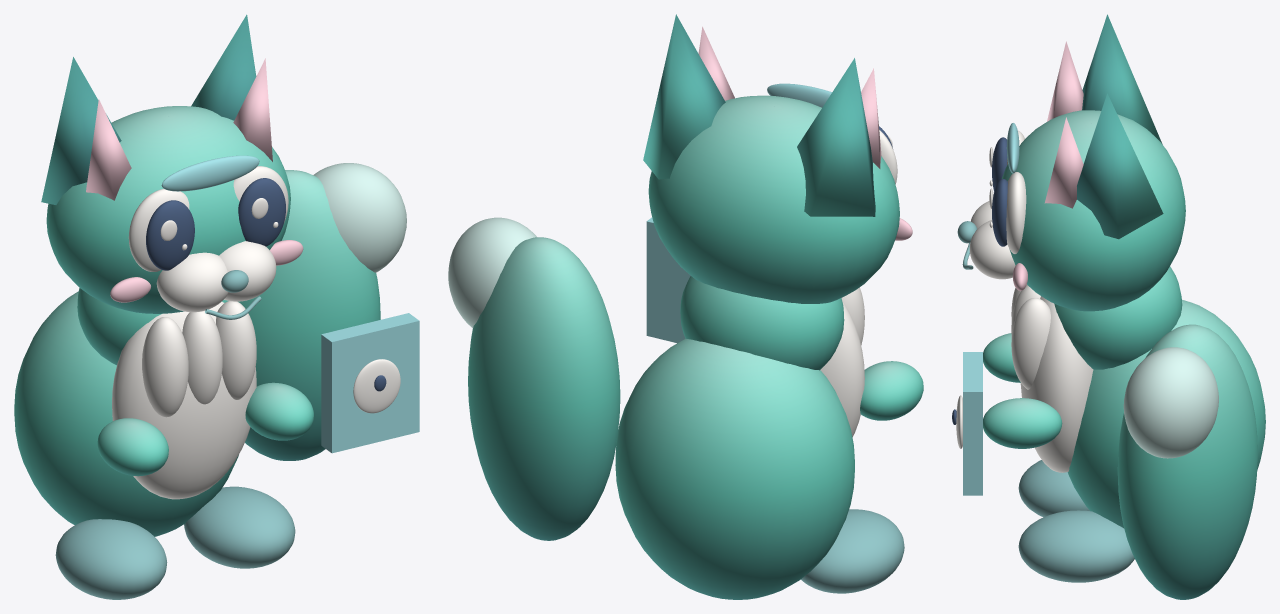
File: it-security-engineer.glb
3 views of the same model, side by side, from view 1: azimuth 30°, elevation 25°; view 2: azimuth 150°, elevation 25°; view 3: azimuth 270°, elevation 25° (orthographic). The views are drawn at different scales.
Parts seen in each view (by area): view 1: Pointed fox head, Sitting fox haunch, Oversized fox tail, Fox chest ruff, Security shield, Grounded foot, Grounded foot.001, Contrasting tail tip, Tall fox ear, Fox ruff point, Tall fox ear.001, Posed paw (+16 smaller); view 2: Sitting fox haunch, Oversized fox tail, Pointed fox head, Fox neck, Tall fox ear, Tall fox ear.001, Grounded foot, Contrasting tail tip, Security shield, Posed paw, Fox chest ruff, Fox ear inset (+3 smaller); view 3: Oversized fox tail, Pointed fox head, Sitting fox haunch, Contrasting tail tip, Tall fox ear.001, Fox neck, Grounded foot.001, Fox chest ruff, Tall fox ear, Posed paw.001, Security shield, Fox ruff point.002 (+9 smaller).
Boxes of the visible parts, x1,y1,x2,y2 form: Pointed fox head: [46, 106, 290, 313]; Sitting fox haunch: [14, 291, 238, 536]; Oversized fox tail: [238, 170, 380, 460]; Fox chest ruff: [112, 301, 256, 499]; Security shield: [321, 313, 419, 453]; Grounded foot: [55, 519, 167, 599]; Grounded foot.001: [184, 486, 295, 568]; Contrasting tail tip: [313, 163, 406, 272]; Tall fox ear: [41, 57, 121, 204]; Fox ruff point: [142, 317, 188, 417]; Tall fox ear.001: [191, 14, 256, 120]; Posed paw: [97, 418, 168, 476]; Sitting fox haunch: [615, 338, 854, 599]; Oversized fox tail: [468, 237, 620, 540]; Pointed fox head: [648, 95, 899, 303]; Fox neck: [680, 276, 844, 370]; Tall fox ear: [797, 58, 875, 216]; Tall fox ear.001: [643, 14, 725, 179]; Grounded foot: [801, 509, 904, 593]; Contrasting tail tip: [448, 217, 536, 327]; Security shield: [646, 217, 690, 343]; Posed paw: [860, 361, 923, 420]; Fox chest ruff: [820, 300, 864, 437]; Fox ear inset: [861, 68, 881, 168]; Oversized fox tail: [1117, 324, 1257, 599]; Pointed fox head: [1002, 110, 1185, 311]; Sitting fox haunch: [1067, 300, 1265, 528]; Contrasting tail tip: [1123, 347, 1218, 458]; Tall fox ear.001: [1077, 93, 1163, 239]; Fox neck: [1054, 266, 1182, 369]; Grounded foot.001: [1018, 510, 1134, 582]; Fox chest ruff: [1020, 296, 1093, 472]; Tall fox ear: [1082, 14, 1162, 144]; Posed paw.001: [983, 398, 1062, 448]; Security shield: [963, 352, 982, 495]; Fox ruff point.002: [1011, 298, 1050, 389].
Bounding box in the file's own units: 2.28 × 2.99 × 1.73.
7 materials, 1 textured.
